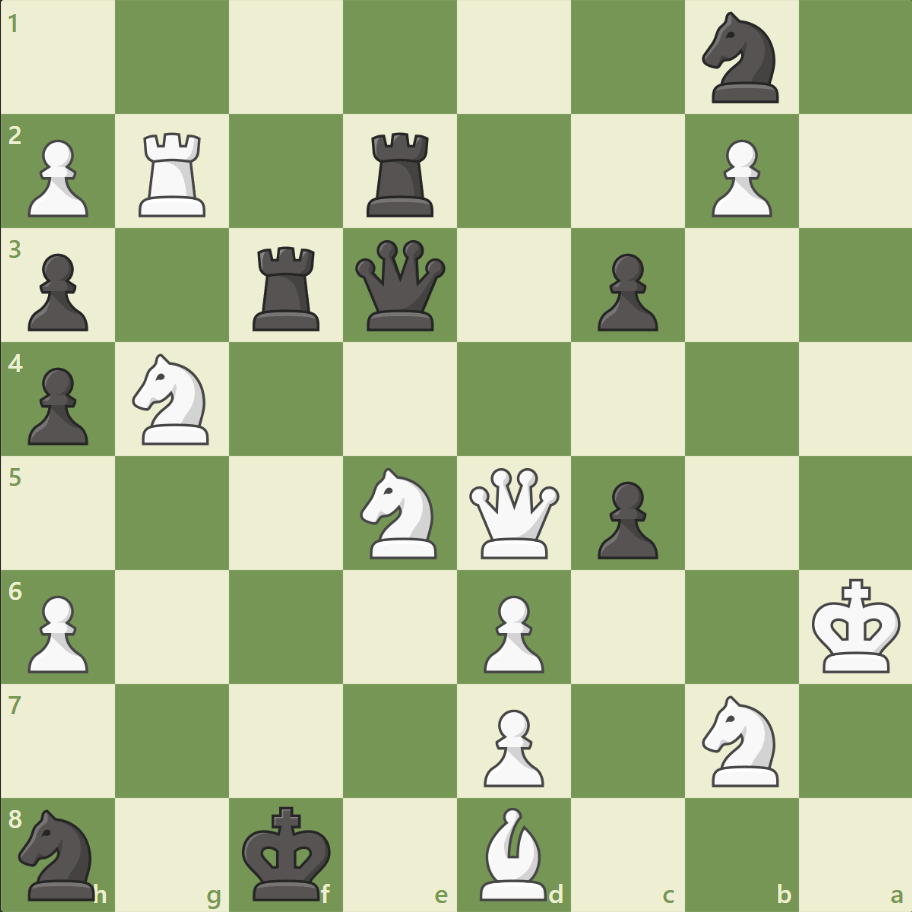B: (471, 801, 555, 904)
K: (806, 571, 906, 679)
N: (351, 461, 449, 564), (124, 348, 222, 450), (692, 688, 789, 791)
P: (474, 700, 549, 791), (474, 586, 549, 677), (20, 586, 95, 677), (701, 132, 776, 223), (20, 132, 95, 223)
Q: (464, 463, 563, 562)
R: (133, 125, 215, 222)
k: (238, 798, 338, 906)
n: (692, 7, 789, 110), (11, 802, 108, 904)
p: (20, 359, 95, 450), (20, 246, 95, 337), (588, 473, 662, 564), (588, 246, 662, 337)
q: (351, 236, 450, 335)
r: (246, 239, 329, 336), (360, 125, 442, 222)
